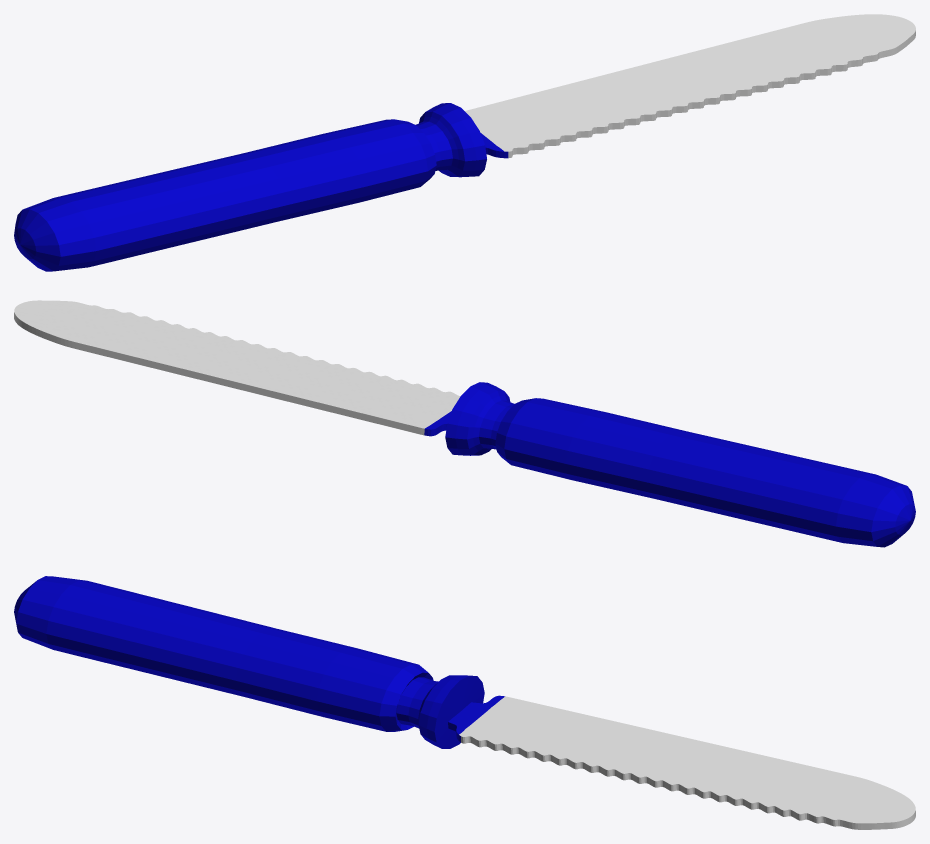
Rendered from knife1.dae.
The picture shows the model from 3 angles, top to bottom: view 1: azimuth 30°, elevation 25°; view 2: azimuth 150°, elevation 25°; view 3: azimuth 330°, elevation 25°; orthographic projection.
Parts seen in each view (by area): view 1: knife1; view 2: knife1; view 3: knife1.
Boxes of the visible parts, x1,y1,x2,y2 form: knife1: (14, 14, 915, 271); knife1: (14, 300, 915, 547); knife1: (14, 576, 915, 829).
Bounding box in the file's own units: 0.1967 × 0.0203 × 0.014.
Materials: 2 (1 with a texture image).
